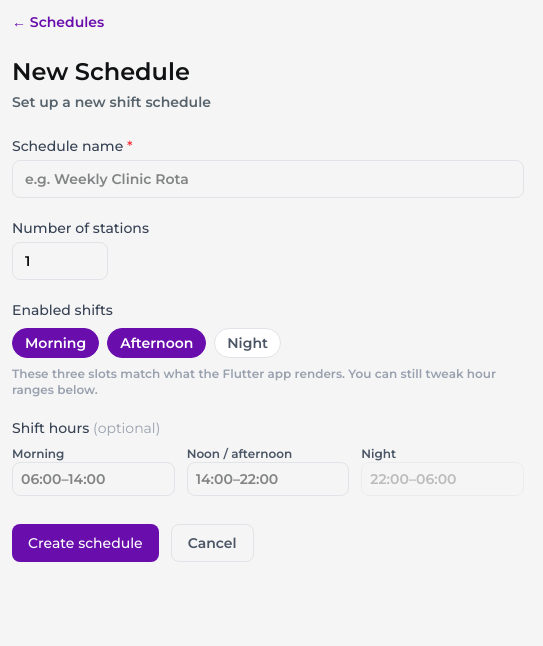
Scenario: NewSchedulePage › surfaces a generic error when createSchedule rejects
In the field with placeholder "e.g. Weekly Clinic Rota": [268, 179] box [12,160,524,198], type "Roster"
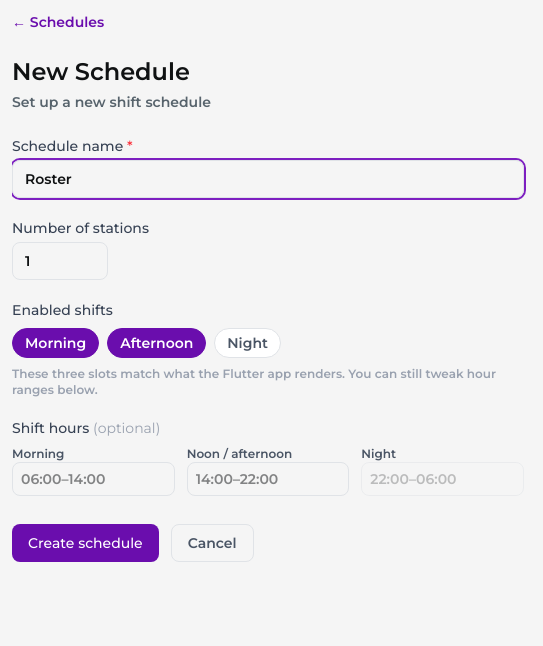
Click the button "Create schedule": [85, 543] box [12,524,159,562]
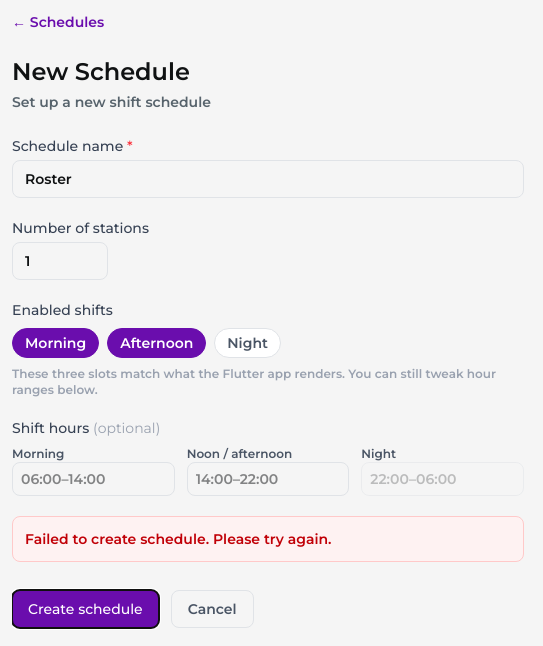
Result: the text "Failed to create schedule. Please try again." is shown at [12,516,524,562]
